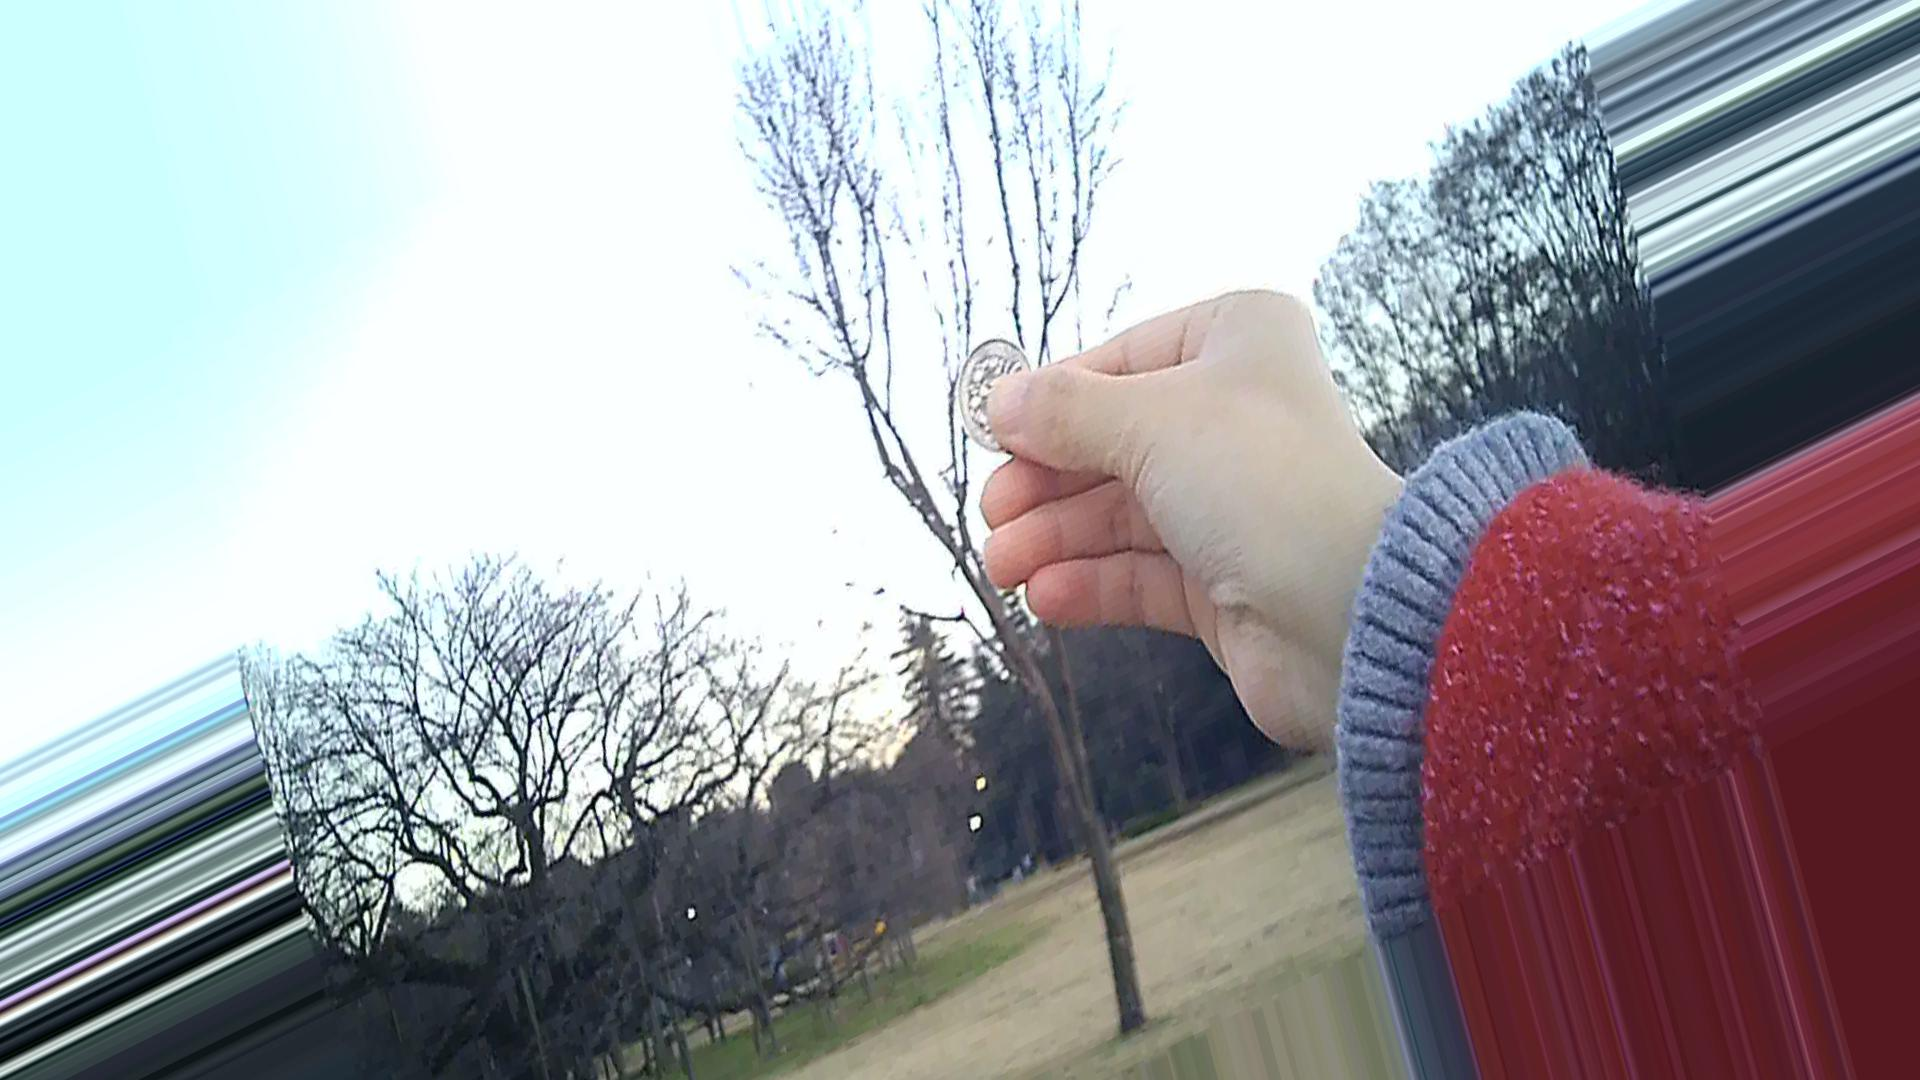100 Yen: (949, 335, 1030, 458)
